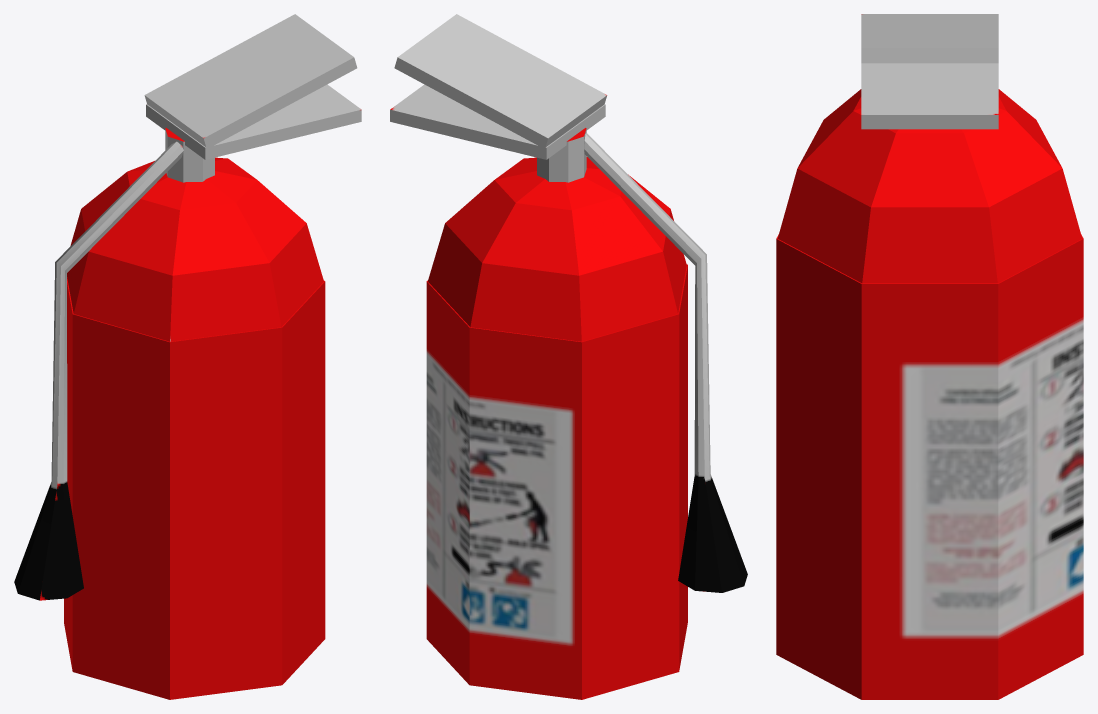
File: FireExtinguisher.fbx
The picture shows the model from 3 angles, left to right: view 1: azimuth 30°, elevation 25°; view 2: azimuth 150°, elevation 25°; view 3: azimuth 270°, elevation 25°; orthographic projection. The views are drawn at different scales.
Parts seen in each view (by area): view 1: Fire_extinguisher; view 2: Fire_extinguisher; view 3: Fire_extinguisher.
Boxes of the visible parts, x1=… form: Fire_extinguisher: x1=14, y1=14, x2=361, y2=699; Fire_extinguisher: x1=390, y1=14, x2=747, y2=699; Fire_extinguisher: x1=776, y1=14, x2=1083, y2=699.
Size of the model in its own units: 0.4944 by 0.8499 by 0.3542.
